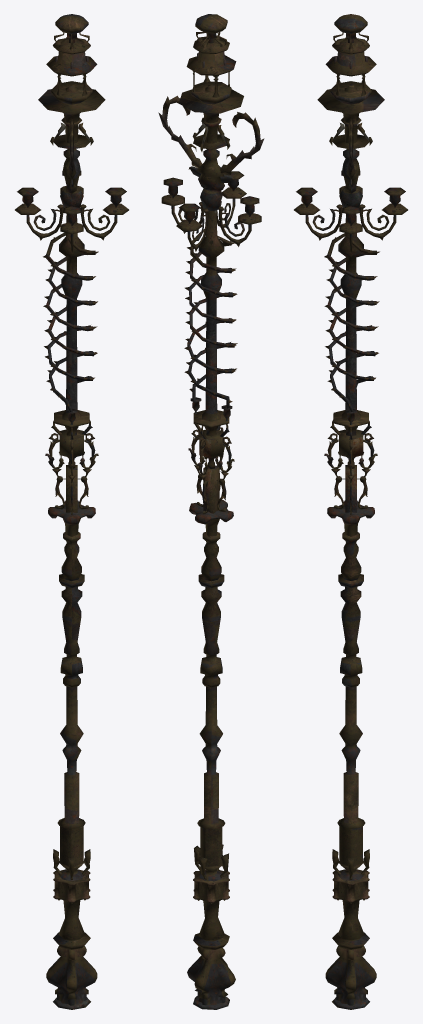
Rendered from sorc.glb.
3 views of the same model, side by side, from view 1: azimuth 90°, elevation 25°; view 2: azimuth 150°, elevation 25°; view 3: azimuth 270°, elevation 25° (orthographic).
Parts seen in each view (by area): view 1: WP1_A_1311; view 2: WP1_A_1311; view 3: WP1_A_1311.
Boxes of the visible parts, <box> form: WP1_A_1311: <box>15,14,128,1009</box>; WP1_A_1311: <box>158,14,264,1009</box>; WP1_A_1311: <box>294,14,407,1009</box>.
Size of the model in its own units: 12.29 by 109 by 11.57.
Materials: 1 (1 with a texture image).
